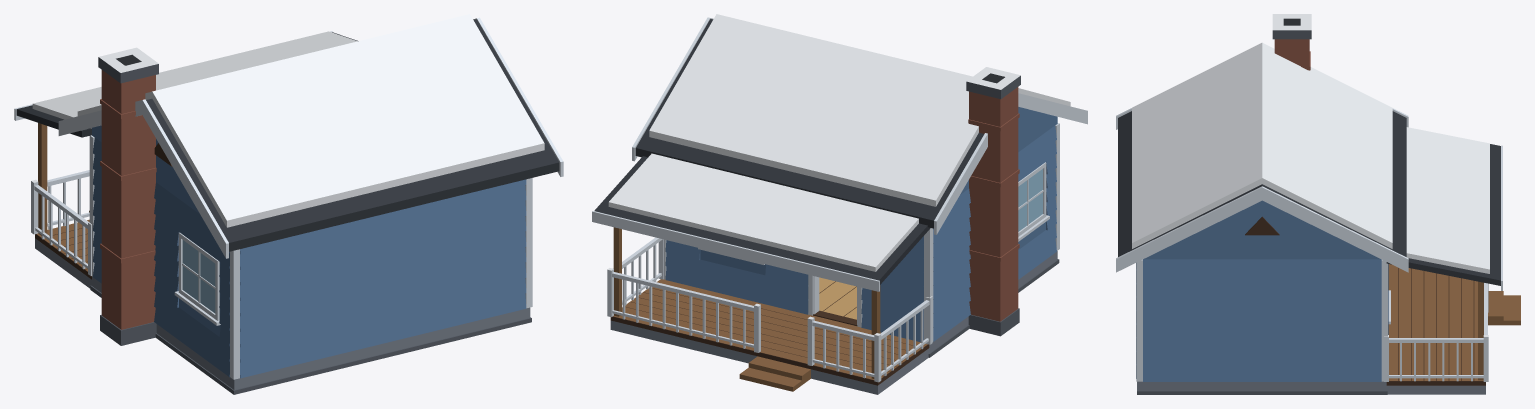
File: cabin.glb
The picture shows the model from 3 angles, left to right: view 1: azimuth 30°, elevation 25°; view 2: azimuth 150°, elevation 25°; view 3: azimuth 270°, elevation 25°; orthographic projection. The views are drawn at different scales.
Visible parts, largest first — view 1: Roof, WallBack, Chimney, WallLeft, Floor, Porch, WindowsLeft, WallFront; view 2: Roof, Porch, Chimney, WallFront, WallLeft, Floor, WindowsLeft, WallBack; view 3: Roof, WallRight, Porch, Floor, Chimney, WallBack, WallFront.
Part boxes in pixels (box(x1,y1,x2,y2)): Roof: box(14, 14, 563, 258); WallBack: box(230, 178, 532, 379); Chimney: box(98, 47, 158, 345); WallLeft: box(92, 135, 229, 377); Floor: box(90, 276, 531, 394); Porch: box(31, 170, 91, 288); WindowsLeft: box(174, 232, 220, 325); WallFront: box(89, 135, 94, 276); Roof: box(592, 14, 1087, 378); Porch: box(607, 237, 932, 394); Chimney: box(966, 67, 1020, 336); WallFront: box(663, 228, 933, 341); WallLeft: box(933, 125, 1056, 341); Floor: box(813, 251, 1059, 357); WindowsLeft: box(1018, 162, 1049, 241); WallBack: box(1055, 123, 1059, 250); Roof: box(1116, 42, 1502, 380); WallRight: box(1143, 259, 1381, 381); Porch: box(1384, 264, 1520, 394); Floor: box(1137, 381, 1387, 394); Chimney: box(1272, 14, 1311, 70); WallBack: box(1136, 259, 1142, 381); WallFront: box(1381, 260, 1388, 381).
Size of what is drawn, in the model's own units: 7.16 by 5.3 by 8.14.
